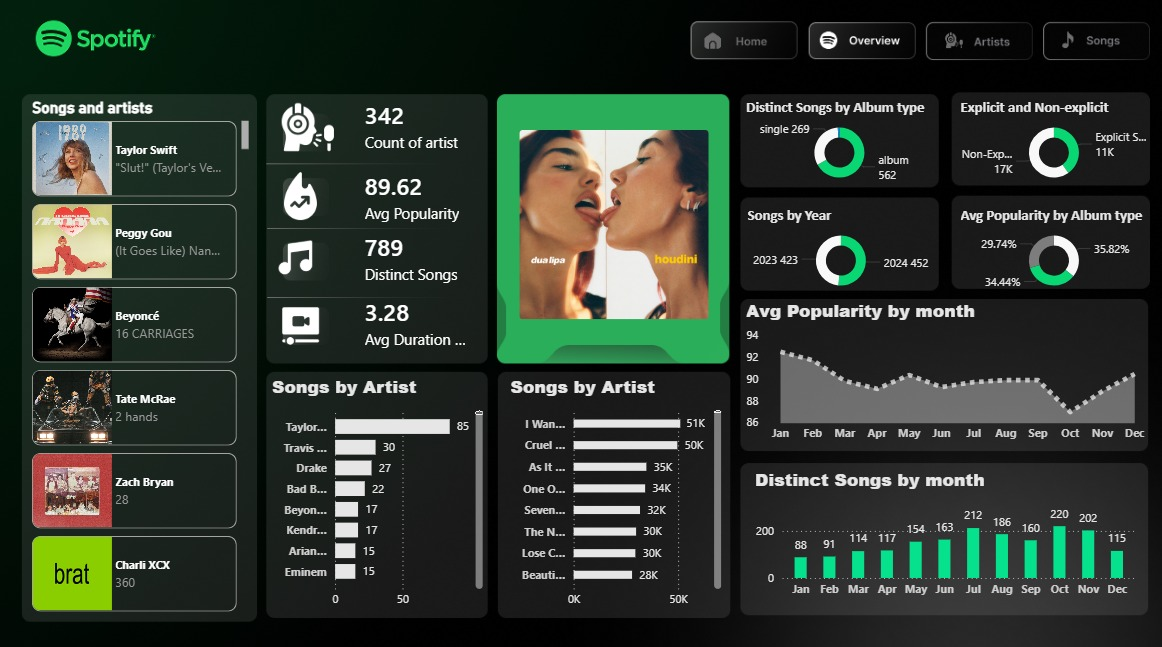

The page's visual inventory and layout, read from the dashboard file:
{"tool":"powerbi","page":{"name":"Page 1","canvas":[1280,720],"ordinal":0},"visuals":[{"type":"clusteredBarChart","title":"Songs by Artist","fields":{"Category":["Top-50-world.artist"],"Y":["_Measures.Distinct Songs"]},"box":[298.3,413.3,238.3,261.7],"z":0},{"type":"clusteredBarChart","title":"Songs by Artist","fields":{"Category":["Top-50-world.song"],"Y":["Sum(Top-50-world.popularity)"]},"box":[556.7,413.3,238.3,261.7],"z":1000},{"type":"areaChart","fields":{"Category":["Top-50-world.month"],"Y":["_Measures.Avg Popularity"]},"box":[811.7,330,445,165],"z":2000},{"type":"donutChart","title":"Distinct Songs by Album type","fields":{"Category":["Top-50-world.album_type"],"Y":["_Measures.Distinct Songs"]},"box":[811.7,113.3,211.7,98.3],"z":3000},{"type":"donutChart","title":"Explicit and Non-explicit","fields":{"Y":["_Measures.Explicit Songs","_Measures.Non-Explicit Songs"]},"box":[1045,113.3,211.7,98.3],"z":4000},{"type":"donutChart","title":"Songs by Year","fields":{"Y":["_Measures.Distinct Songs"],"Category":["Top-50-world.Year"]},"box":[813.3,231.7,211.7,98.3],"z":5000},{"type":"donutChart","title":"Avg Popularity by Album type","fields":{"Category":["Top-50-world.album_type"],"Y":["_Measures.Avg Popularity"]},"box":[1045,231.7,211.7,98.3],"z":6000},{"type":"clusteredColumnChart","fields":{"Category":["Top-50-world.month"],"Y":["_Measures.Distinct Songs"]},"box":[821.7,513.3,421.7,150],"z":7000},{"type":"cardVisual","fields":{"Data":["_Measures.Avg Duration Minutes"]},"box":[373.3,281.7,176.7,150],"z":8000},{"type":"cardVisual","fields":{"Data":["_Measures.Distinct Songs"]},"box":[373.3,211.7,238.3,150],"z":9000},{"type":"cardVisual","fields":{"Data":["_Measures.Avg Popularity"]},"box":[373.3,145,238.3,150],"z":10000},{"type":"cardVisual","fields":{"Data":["Count(Top-50-world.artist)"]},"box":[373.3,100,163.3,88.3],"z":11000},{"type":"image","box":[315,193.3,51.7,53.3],"z":12000},{"type":"image","box":[301.7,336.7,65,48.3],"z":13000},{"type":"image","box":[301.7,268.3,53.3,36.7],"z":14000},{"type":"image","box":[308.3,116.7,65,56.7],"z":15000},{"type":"advancedSlicerVisual","title":"Songs and artists","fields":{"Values":["Top-50-world.song"]},"box":[36.7,113.3,245,561.7],"z":16000},{"type":"cardVisual","fields":{"Data":["Min(Top-50-world.album_cover_url)"]},"box":[536.7,101.7,286.7,311.7],"z":16001}]}

Visuals, with their boxes in screenshot pixels (x1, y1, x2, y2), scaled from the page's 1280x720 canvas onto the 1162x647 screenshot:
"Songs by Artist" clusteredBarChart: select_region(271, 371, 487, 607)
"Songs by Artist" clusteredBarChart: select_region(505, 371, 722, 607)
areaChart - Top-50-world.month x _Measures.Avg Popularity: select_region(737, 297, 1141, 445)
"Distinct Songs by Album type" donutChart: select_region(737, 102, 929, 190)
"Explicit and Non-explicit" donutChart: select_region(949, 102, 1141, 190)
"Songs by Year" donutChart: select_region(738, 208, 931, 297)
"Avg Popularity by Album type" donutChart: select_region(949, 208, 1141, 297)
clusteredColumnChart - Top-50-world.month x _Measures.Distinct Songs: select_region(746, 461, 1129, 596)
cardVisual - _Measures.Avg Duration Minutes: select_region(339, 253, 499, 388)
cardVisual - _Measures.Distinct Songs: select_region(339, 190, 555, 325)
cardVisual - _Measures.Avg Popularity: select_region(339, 130, 555, 265)
cardVisual - Count(Top-50-world.artist): select_region(339, 90, 487, 169)
image: select_region(286, 174, 333, 222)
image: select_region(274, 303, 333, 346)
image: select_region(274, 241, 322, 274)
image: select_region(280, 105, 339, 156)
"Songs and artists" advancedSlicerVisual: select_region(33, 102, 256, 607)
cardVisual - Min(Top-50-world.album_cover_url): select_region(487, 91, 747, 371)
